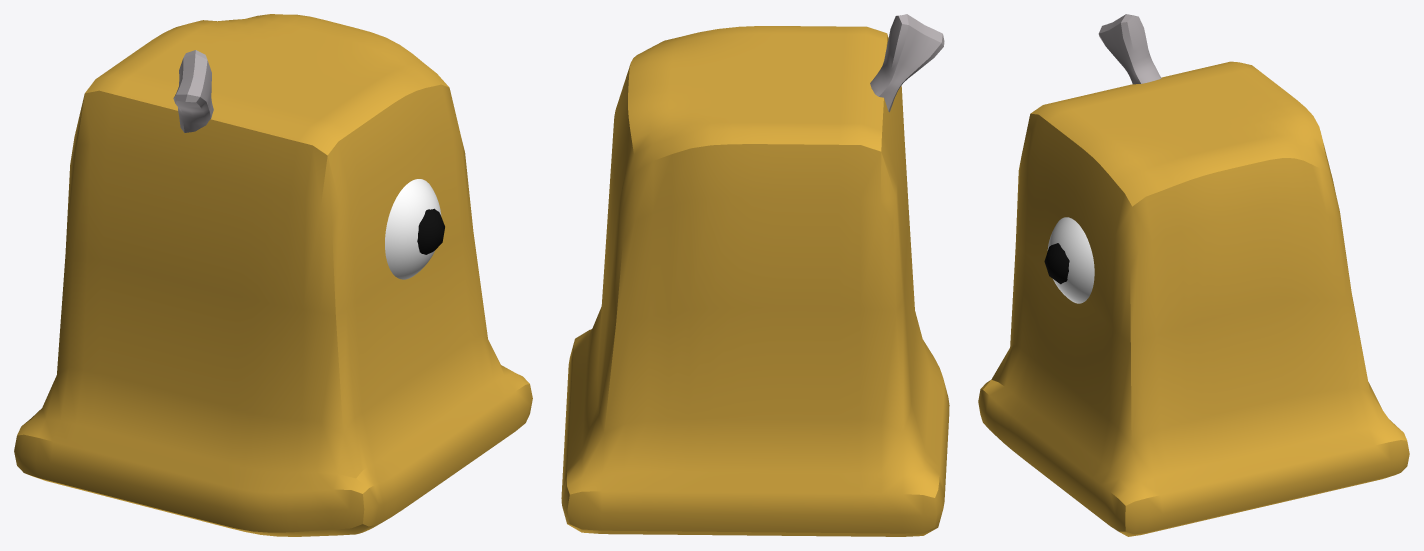
Rendered from bigslime2.fbx.
3 renders of one model, left to right at view 1: azimuth 30°, elevation 25°; view 2: azimuth 150°, elevation 25°; view 3: azimuth 270°, elevation 25°, orthographic. The views are drawn at different scales.
Visible parts, largest first — view 1: Icosphere; view 2: Icosphere; view 3: Icosphere.
Part boxes in pixels (left/top/right/bottom): Icosphere: left=14, top=14, right=532, bottom=536; Icosphere: left=561, top=14, right=949, bottom=536; Icosphere: left=978, top=14, right=1409, bottom=536.
Size of the model in its own units: 461 by 454 by 454.
